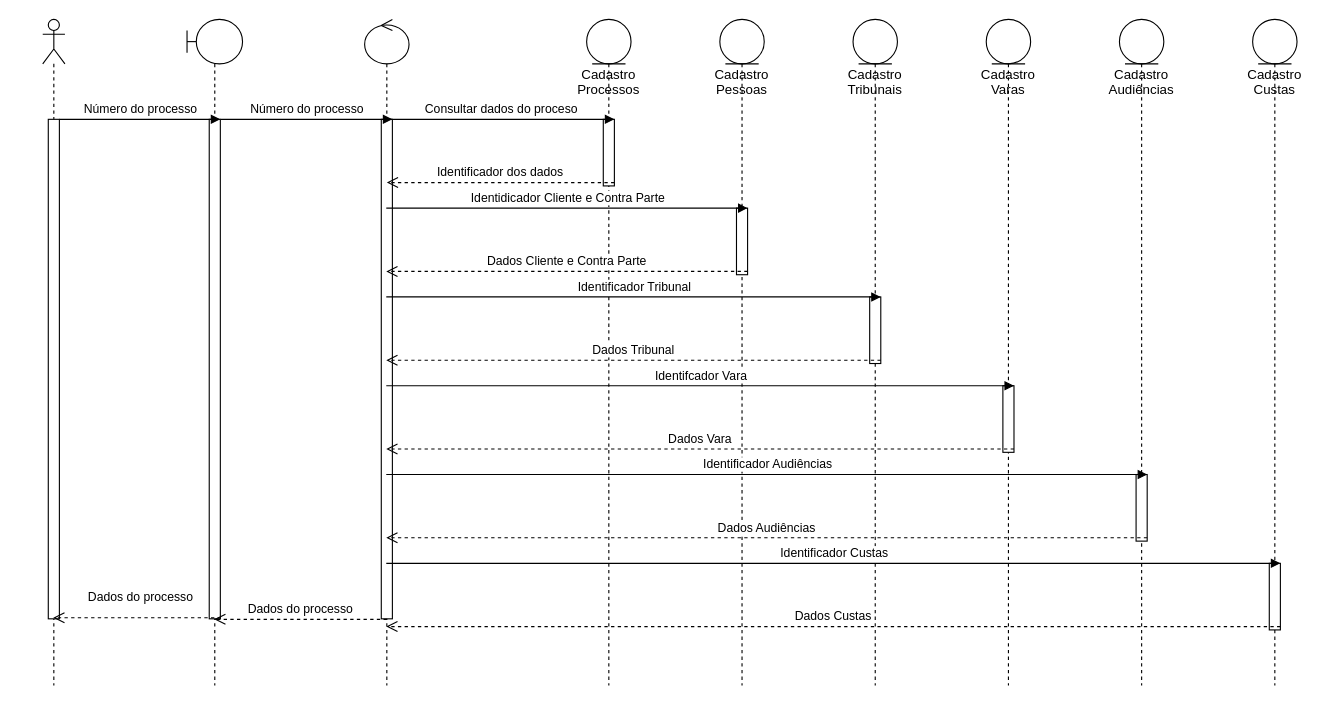
The diagram is 1321 pixels wide and 705 high, and some of its shapes have lost their labels. Here are the shapes that lost their labels. From the top down, the box of each, then its label:
(42, 18, 65, 685): Funcionário
(186, 18, 243, 685): Interface Sistema
(364, 18, 409, 685): Controlador Sistema
